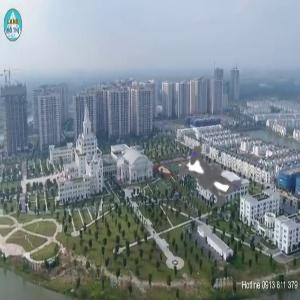drone: (134, 103, 291, 260)
